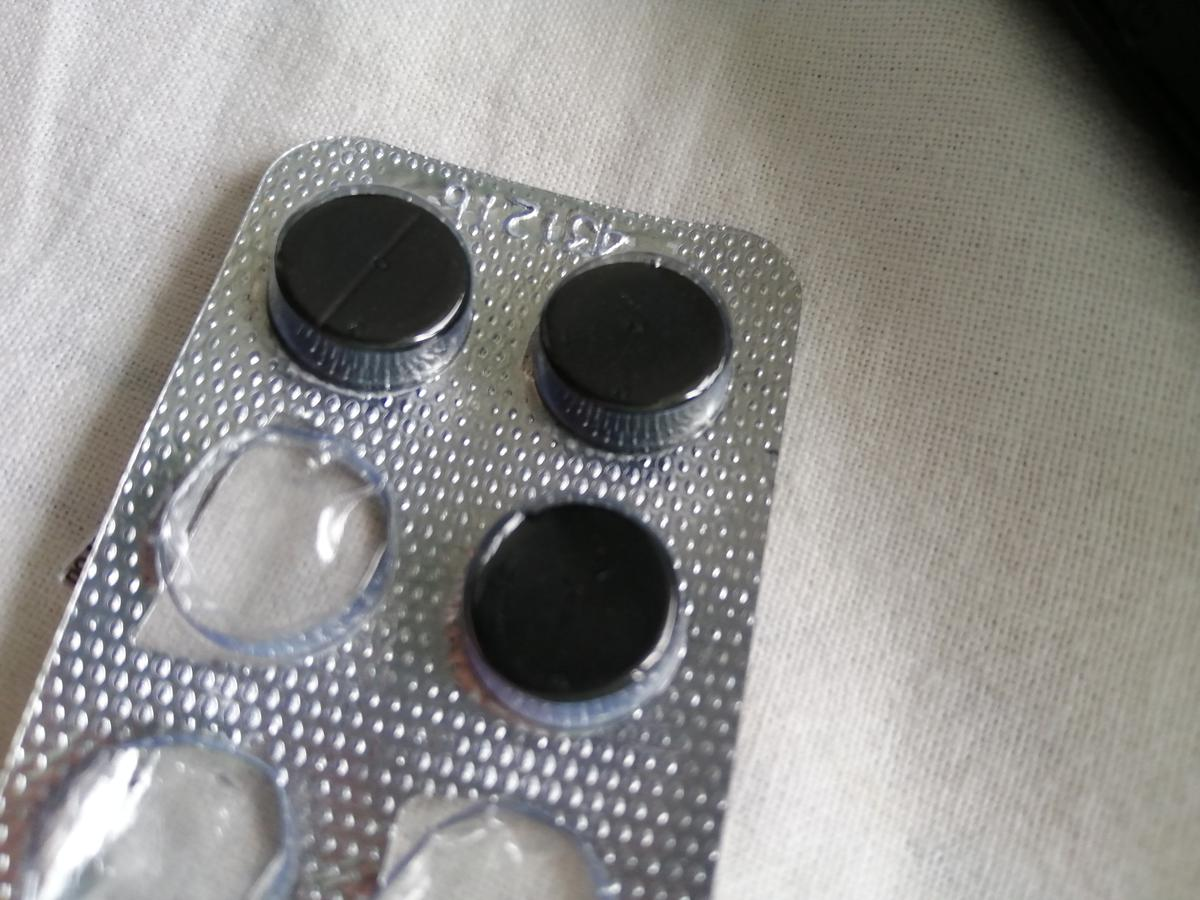tablet: (473, 504, 683, 720), (537, 250, 735, 452), (271, 190, 477, 380)
